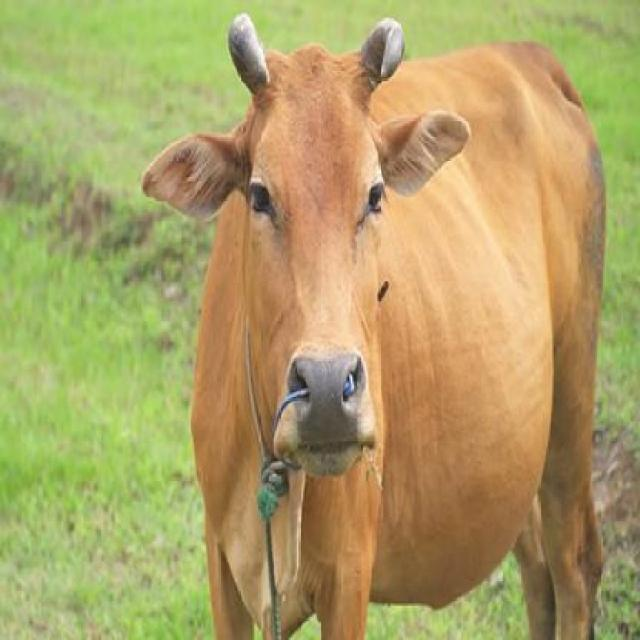Cow: (141, 16, 614, 638)
